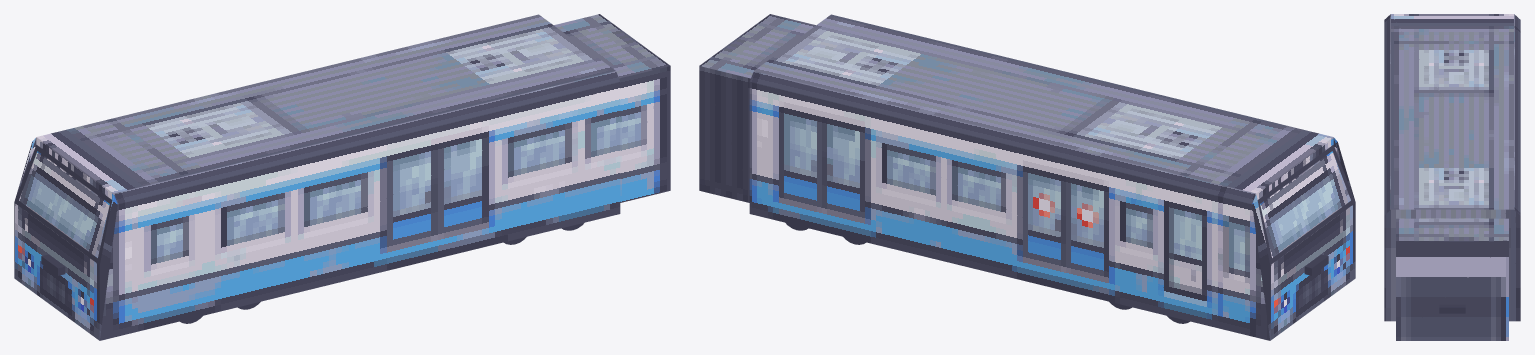
The model's file is blue-front-v1.glb.
3 renders of one model, left to right at view 1: azimuth 30°, elevation 25°; view 2: azimuth 150°, elevation 25°; view 3: azimuth 270°, elevation 25°, orthographic. The views are drawn at different scales.
Parts seen in each view (by area): view 1: Skirt-west, Roof, Bellows-body-2, Negative-end-lower, Roof-shoulder-west, Negative-end-windscreen-glass, Bellows-body-0, Negative-end-windscreen-frame, Negative-end-corner--1, Negative-end-roof; view 2: Skirt-east, Roof, Bellows-body-3, Negative-end-lower, Roof-shoulder-east, Negative-end-windscreen-glass, Bellows-body-0, Negative-end-windscreen-frame, Negative-end-corner-1, Negative-end-roof; view 3: Roof, Bellows-body-5, Bellows-body-0, Positive-end-upper, Positive-end-lower, Roof-shoulder-east, Roof-shoulder-west, Coupler-head-positive, Positive-end-corner-1, Positive-end-corner--1.
Part boxes in pixels (left/top/right/bottom): Skirt-west: left=100, top=81, right=620, bottom=340; Roof: left=37, top=14, right=615, bottom=193; Bellows-body-2: left=619, top=66, right=670, bottom=202; Negative-end-lower: left=14, top=203, right=99, bottom=340; Roof-shoulder-west: left=114, top=71, right=619, bottom=203; Negative-end-windscreen-glass: left=19, top=151, right=109, bottom=257; Bellows-body-0: left=554, top=14, right=670, bottom=78; Negative-end-windscreen-frame: left=14, top=145, right=112, bottom=264; Negative-end-corner--1: left=99, top=194, right=117, bottom=340; Negative-end-roof: left=36, top=137, right=113, bottom=199; Skirt-east: left=749, top=81, right=1269, bottom=340; Roof: left=754, top=14, right=1332, bottom=193; Bellows-body-3: left=699, top=66, right=750, bottom=202; Negative-end-lower: left=1270, top=203, right=1355, bottom=340; Roof-shoulder-east: left=750, top=71, right=1255, bottom=203; Negative-end-windscreen-glass: left=1260, top=151, right=1350, bottom=257; Bellows-body-0: left=699, top=14, right=815, bottom=78; Negative-end-windscreen-frame: left=1257, top=145, right=1355, bottom=264; Negative-end-corner-1: left=1252, top=194, right=1270, bottom=340; Negative-end-roof: left=1256, top=137, right=1333, bottom=199; Roof: left=1391, top=14, right=1513, bottom=209; Bellows-body-5: left=1396, top=241, right=1508, bottom=340; Bellows-body-0: left=1396, top=218, right=1508, bottom=241; Positive-end-upper: left=1384, top=209, right=1520, bottom=260; Positive-end-lower: left=1384, top=261, right=1520, bottom=321; Roof-shoulder-east: left=1514, top=14, right=1520, bottom=215; Roof-shoulder-west: left=1384, top=14, right=1390, bottom=215; Coupler-head-positive: left=1439, top=304, right=1465, bottom=313; Positive-end-corner-1: left=1514, top=210, right=1520, bottom=258; Positive-end-corner--1: left=1384, top=210, right=1390, bottom=258.
Size of the model in its own units: 164 by 40 by 41.
1 material, 1 textured.
